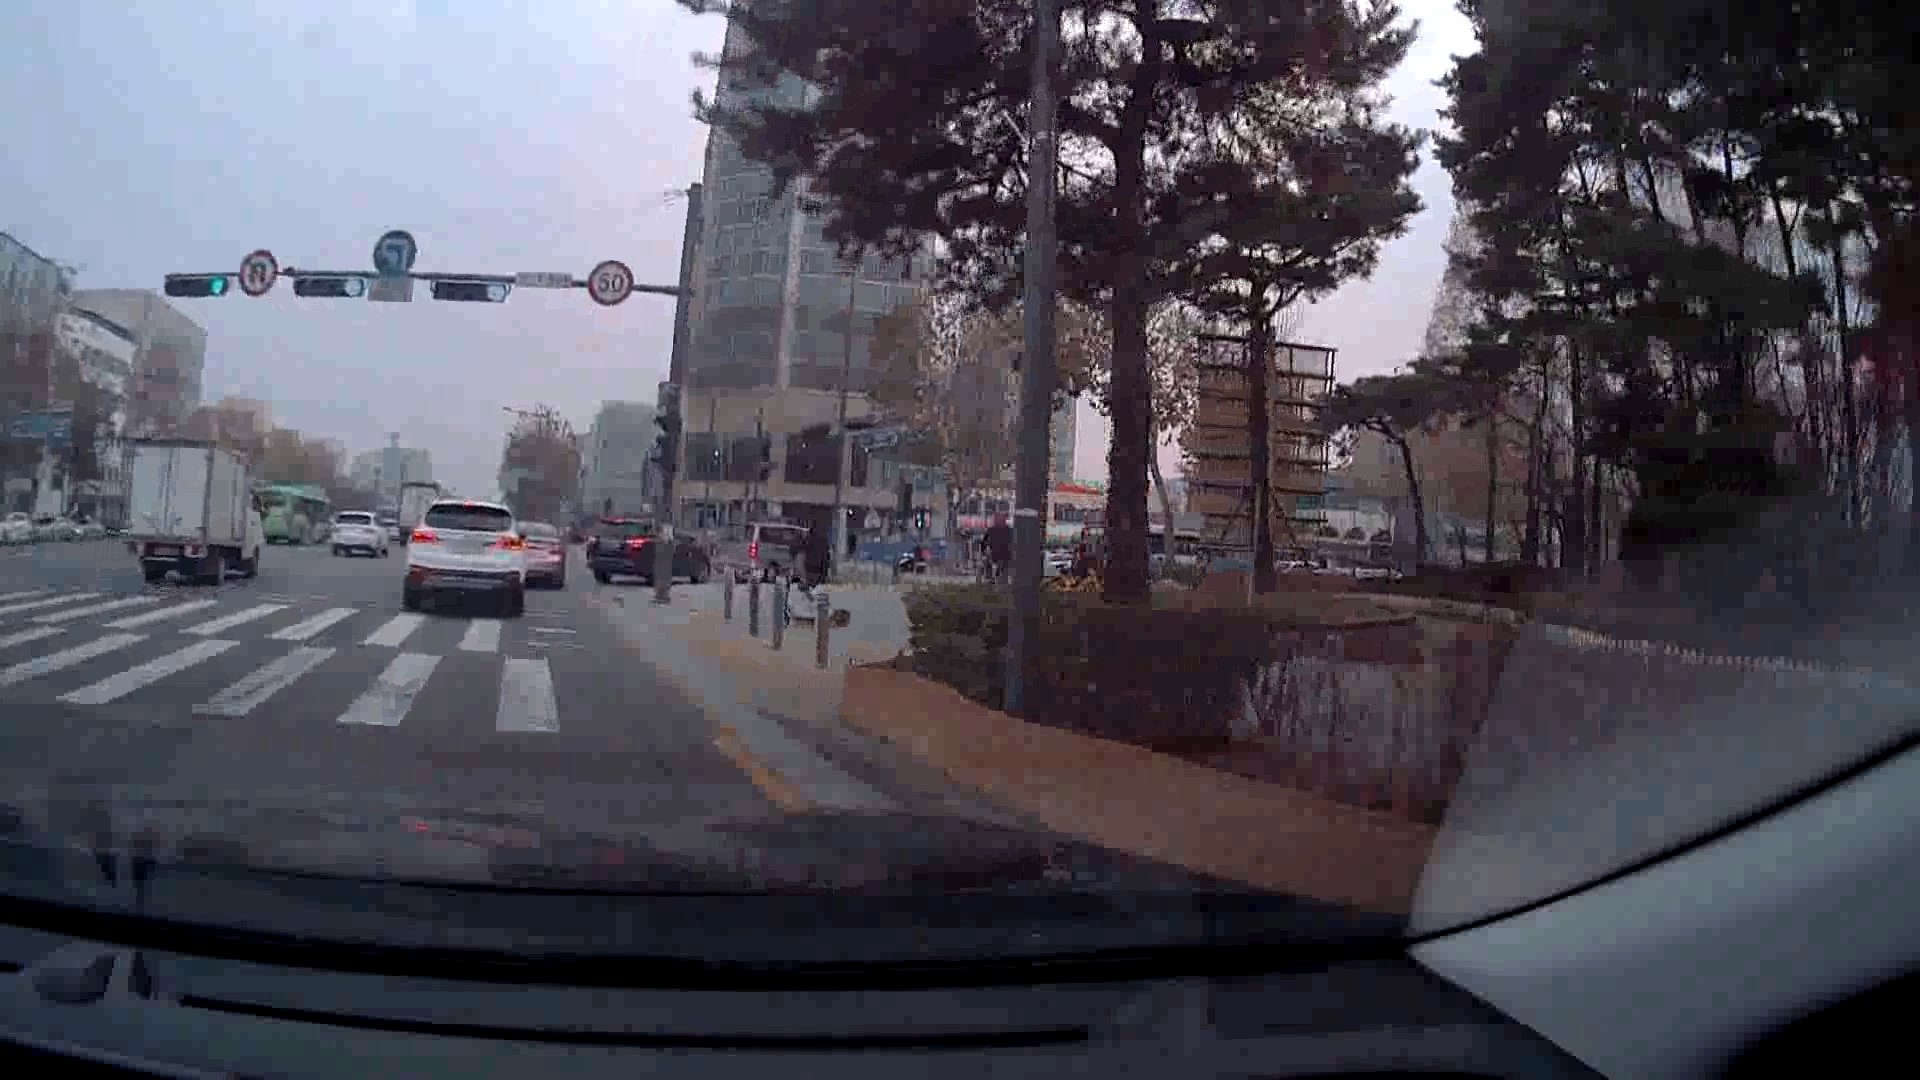trafficLight: (161, 266, 227, 301), (427, 280, 512, 306), (291, 274, 367, 302)
trafficSignCircle: (585, 261, 636, 310), (375, 228, 419, 277), (237, 248, 277, 298)
